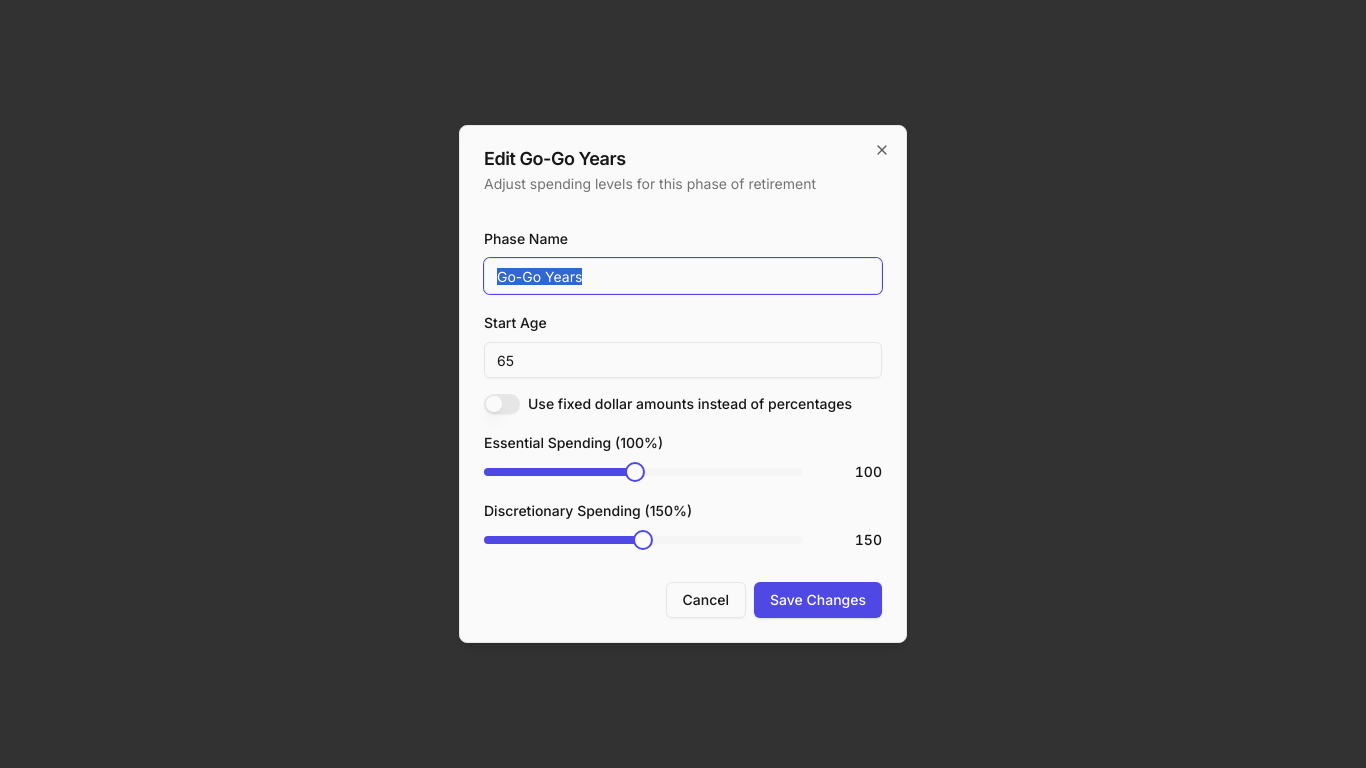
Test: SpendingPhaseEditModal › switches to absolute dollar inputs when toggle is enabled
Check: the field showing "Go-Go Years" is shown, box [484,258,882,294]
Toggle to absolute mode
Step 1. Click the switch → (502, 404), box [484,394,520,414]
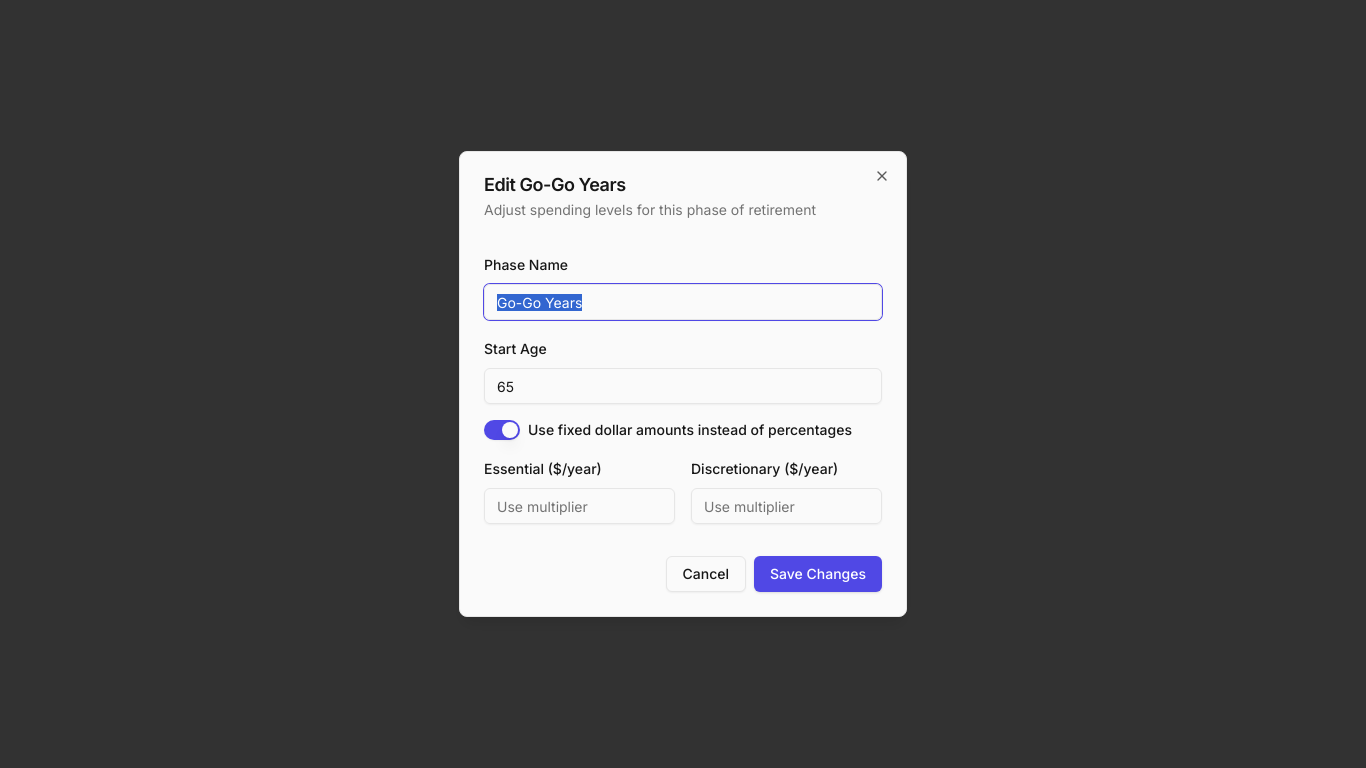
Check: the text "Essential ($/year)" is shown, box [484,460,602,477]
Check: the text "Discretionary ($/year)" is shown, box [691,460,838,477]
